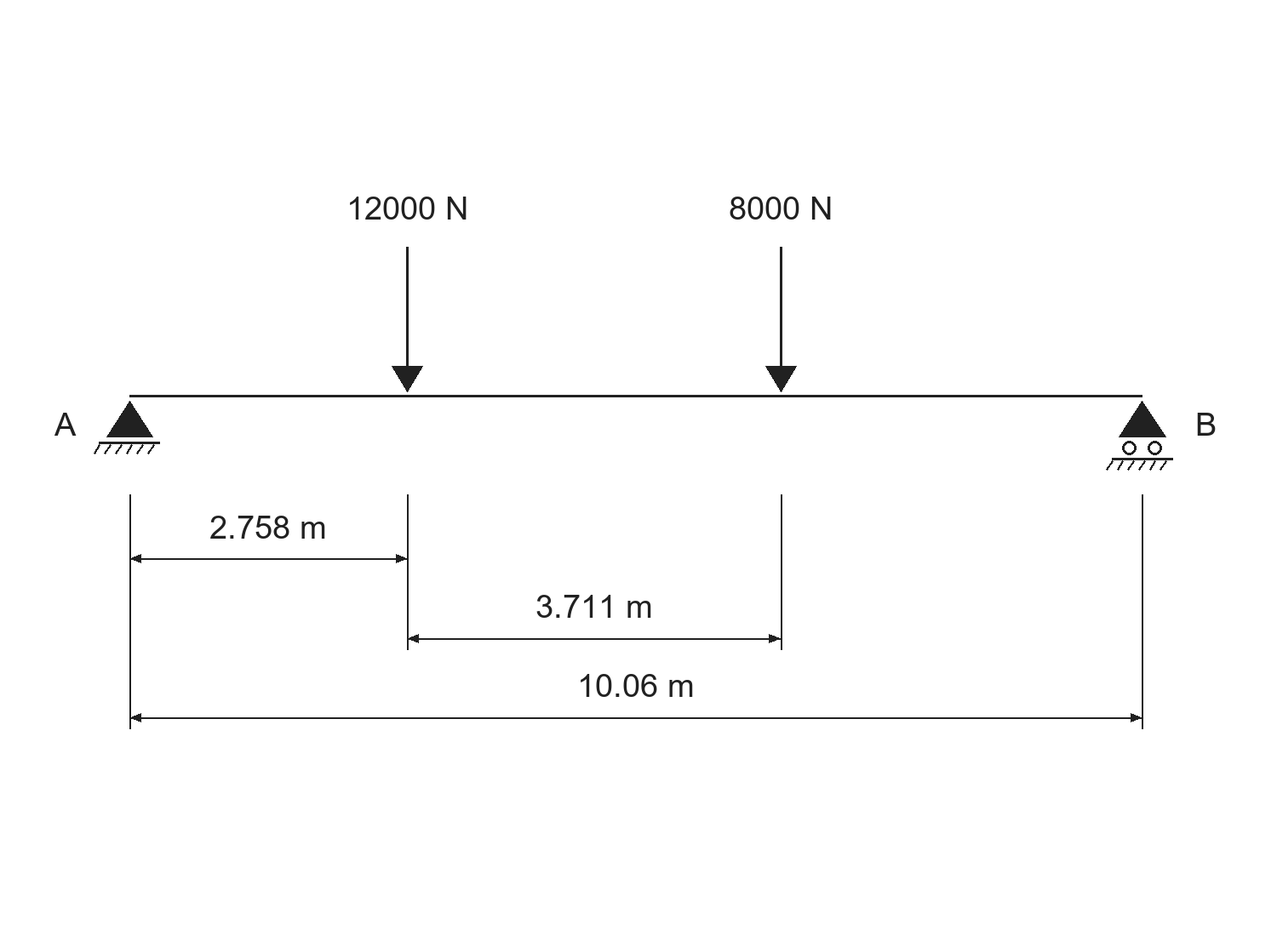pin_support: (94, 401, 160, 454)
point_load: (765, 247, 797, 392), (392, 247, 423, 392)
roller_support: (1106, 401, 1173, 471)
